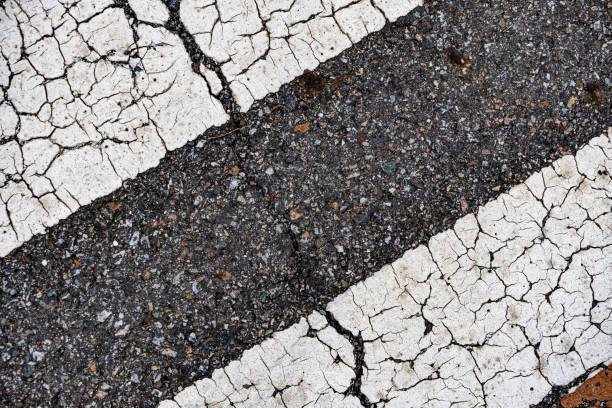faded_road_lines: (327, 130, 611, 407), (0, 0, 228, 256), (181, 1, 422, 111), (158, 312, 360, 407)
